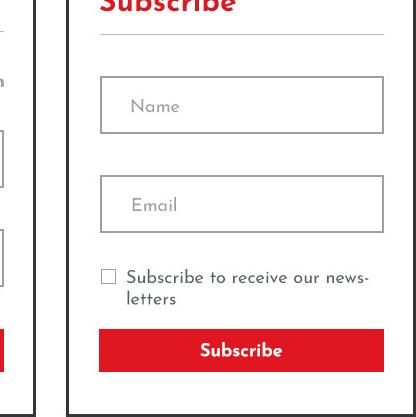button: (95, 326, 386, 375)
checkbox: (100, 266, 121, 287)
checkbox_with_label: (95, 262, 367, 290)
field: (97, 73, 388, 138), (97, 174, 387, 236)
